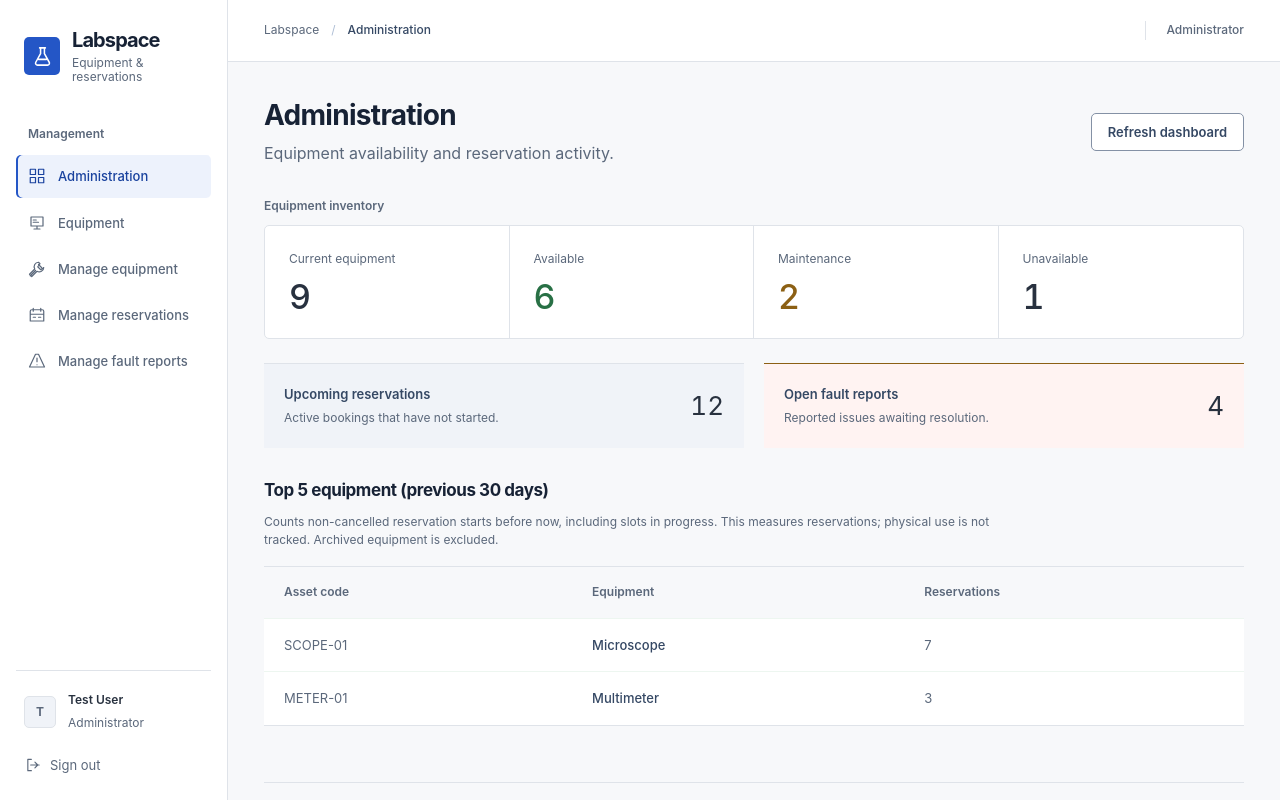
it: open-fault metric opens management with the open filter
Click the link "Open fault reports" at (841, 394), box [784, 386, 898, 402]
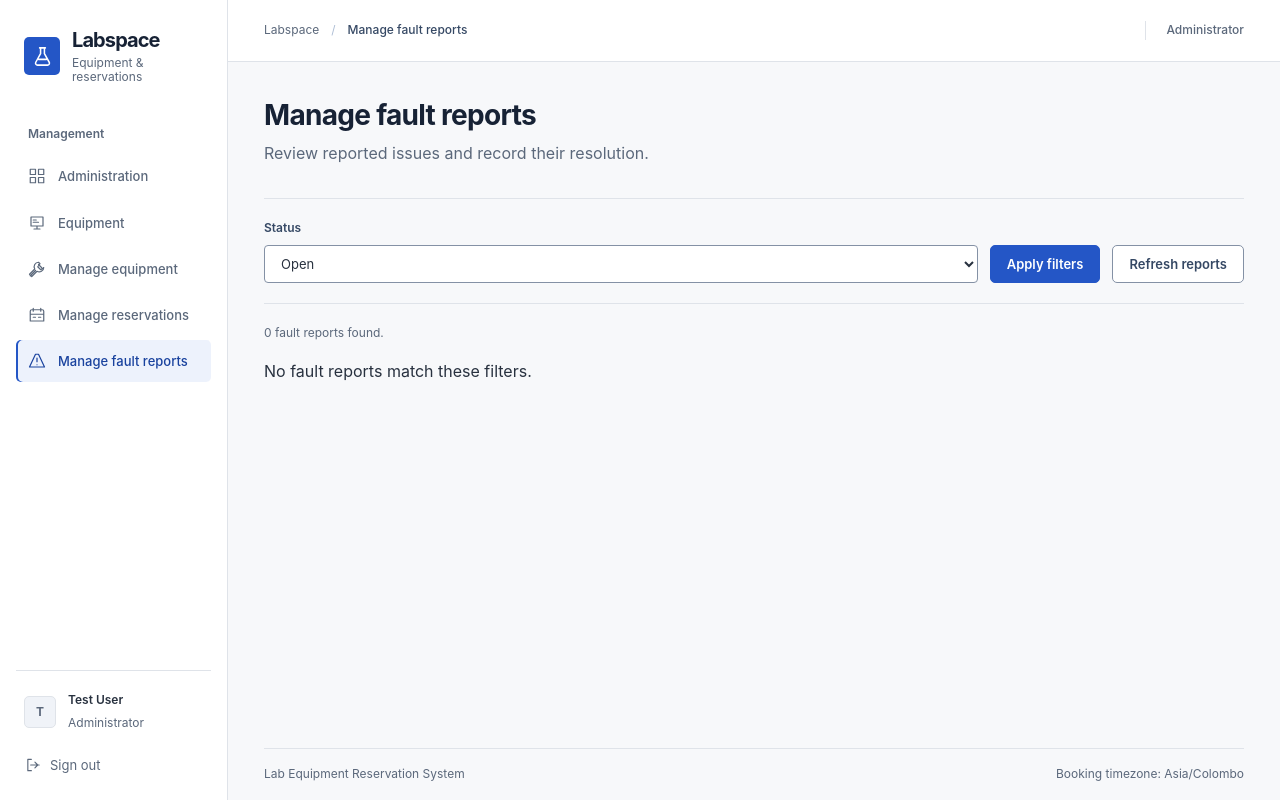
Check: the heading "Manage fault reports" is shown, box [264, 98, 536, 132]
Check: the text "No fault reports match these filters." is shown, box [264, 361, 532, 381]
Check: the dropdown labelled "Status" shows "Open", box [264, 245, 978, 283]
